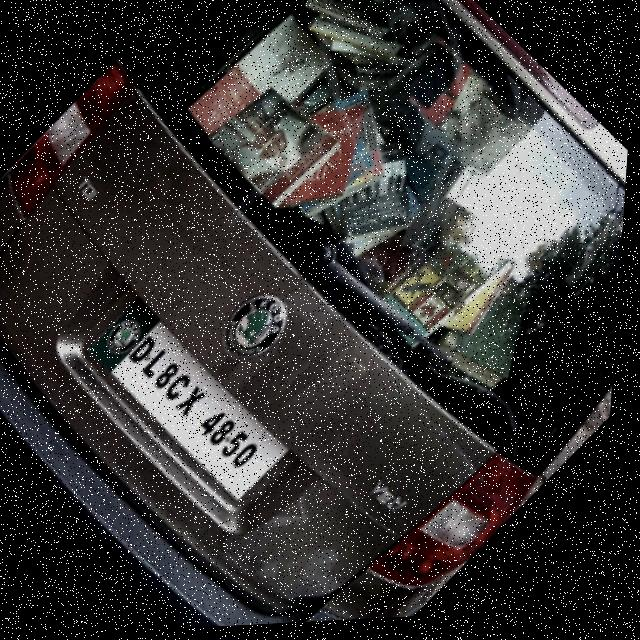license_plate: (82, 291, 304, 508)
